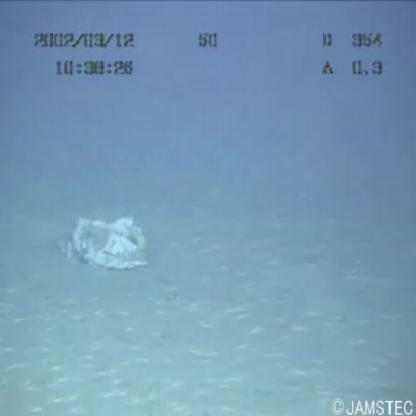Rác: (46, 201, 148, 279)
